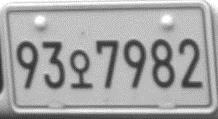2: (178, 37, 203, 89)
3: (41, 40, 65, 89)
7: (95, 39, 119, 88)
8: (150, 38, 175, 88)
9: (122, 38, 147, 88), (15, 40, 39, 89)
오: (68, 48, 93, 88)
